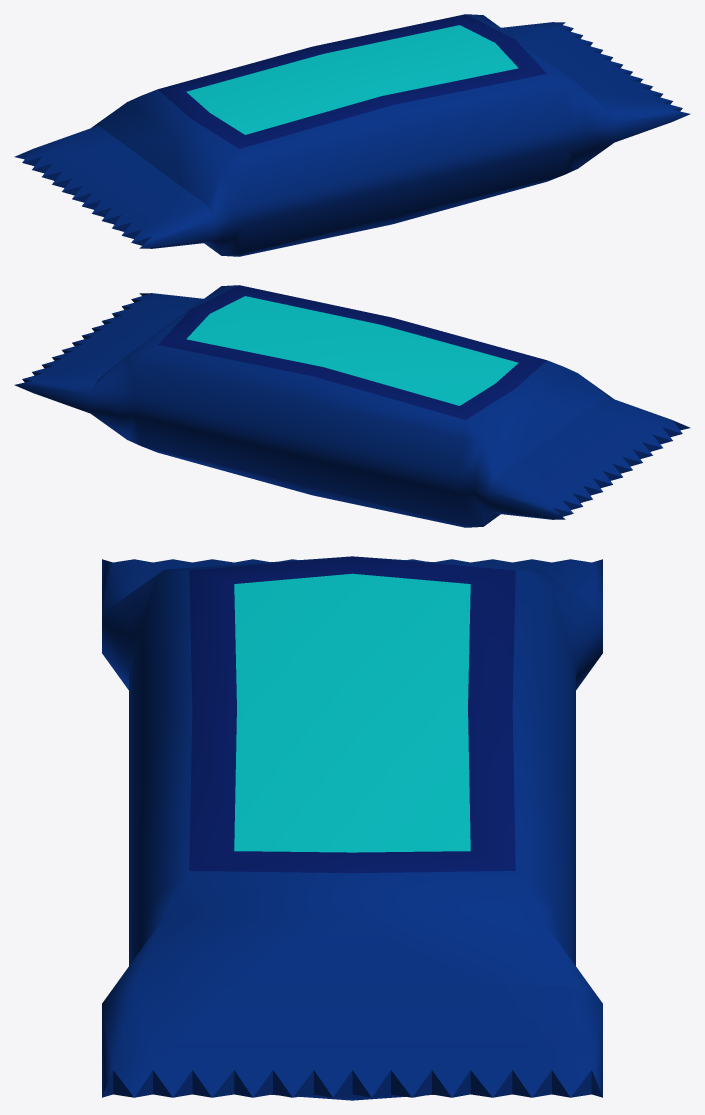
Rendered from Candy_packaging_03.fbx.
3 renders of one model, top to bottom at view 1: azimuth 30°, elevation 25°; view 2: azimuth 150°, elevation 25°; view 3: azimuth 270°, elevation 25°, orthographic. The views are drawn at different scales.
Visible parts, largest first — view 1: Candy_packaging_03; view 2: Candy_packaging_03; view 3: Candy_packaging_03.
Part boxes in pixels (x1,y1,x2,y2): Candy_packaging_03: (14, 14, 690, 256); Candy_packaging_03: (14, 285, 690, 527); Candy_packaging_03: (102, 556, 602, 1100).
Bounding box in the file's own units: 197 × 77.29 × 42.78.
